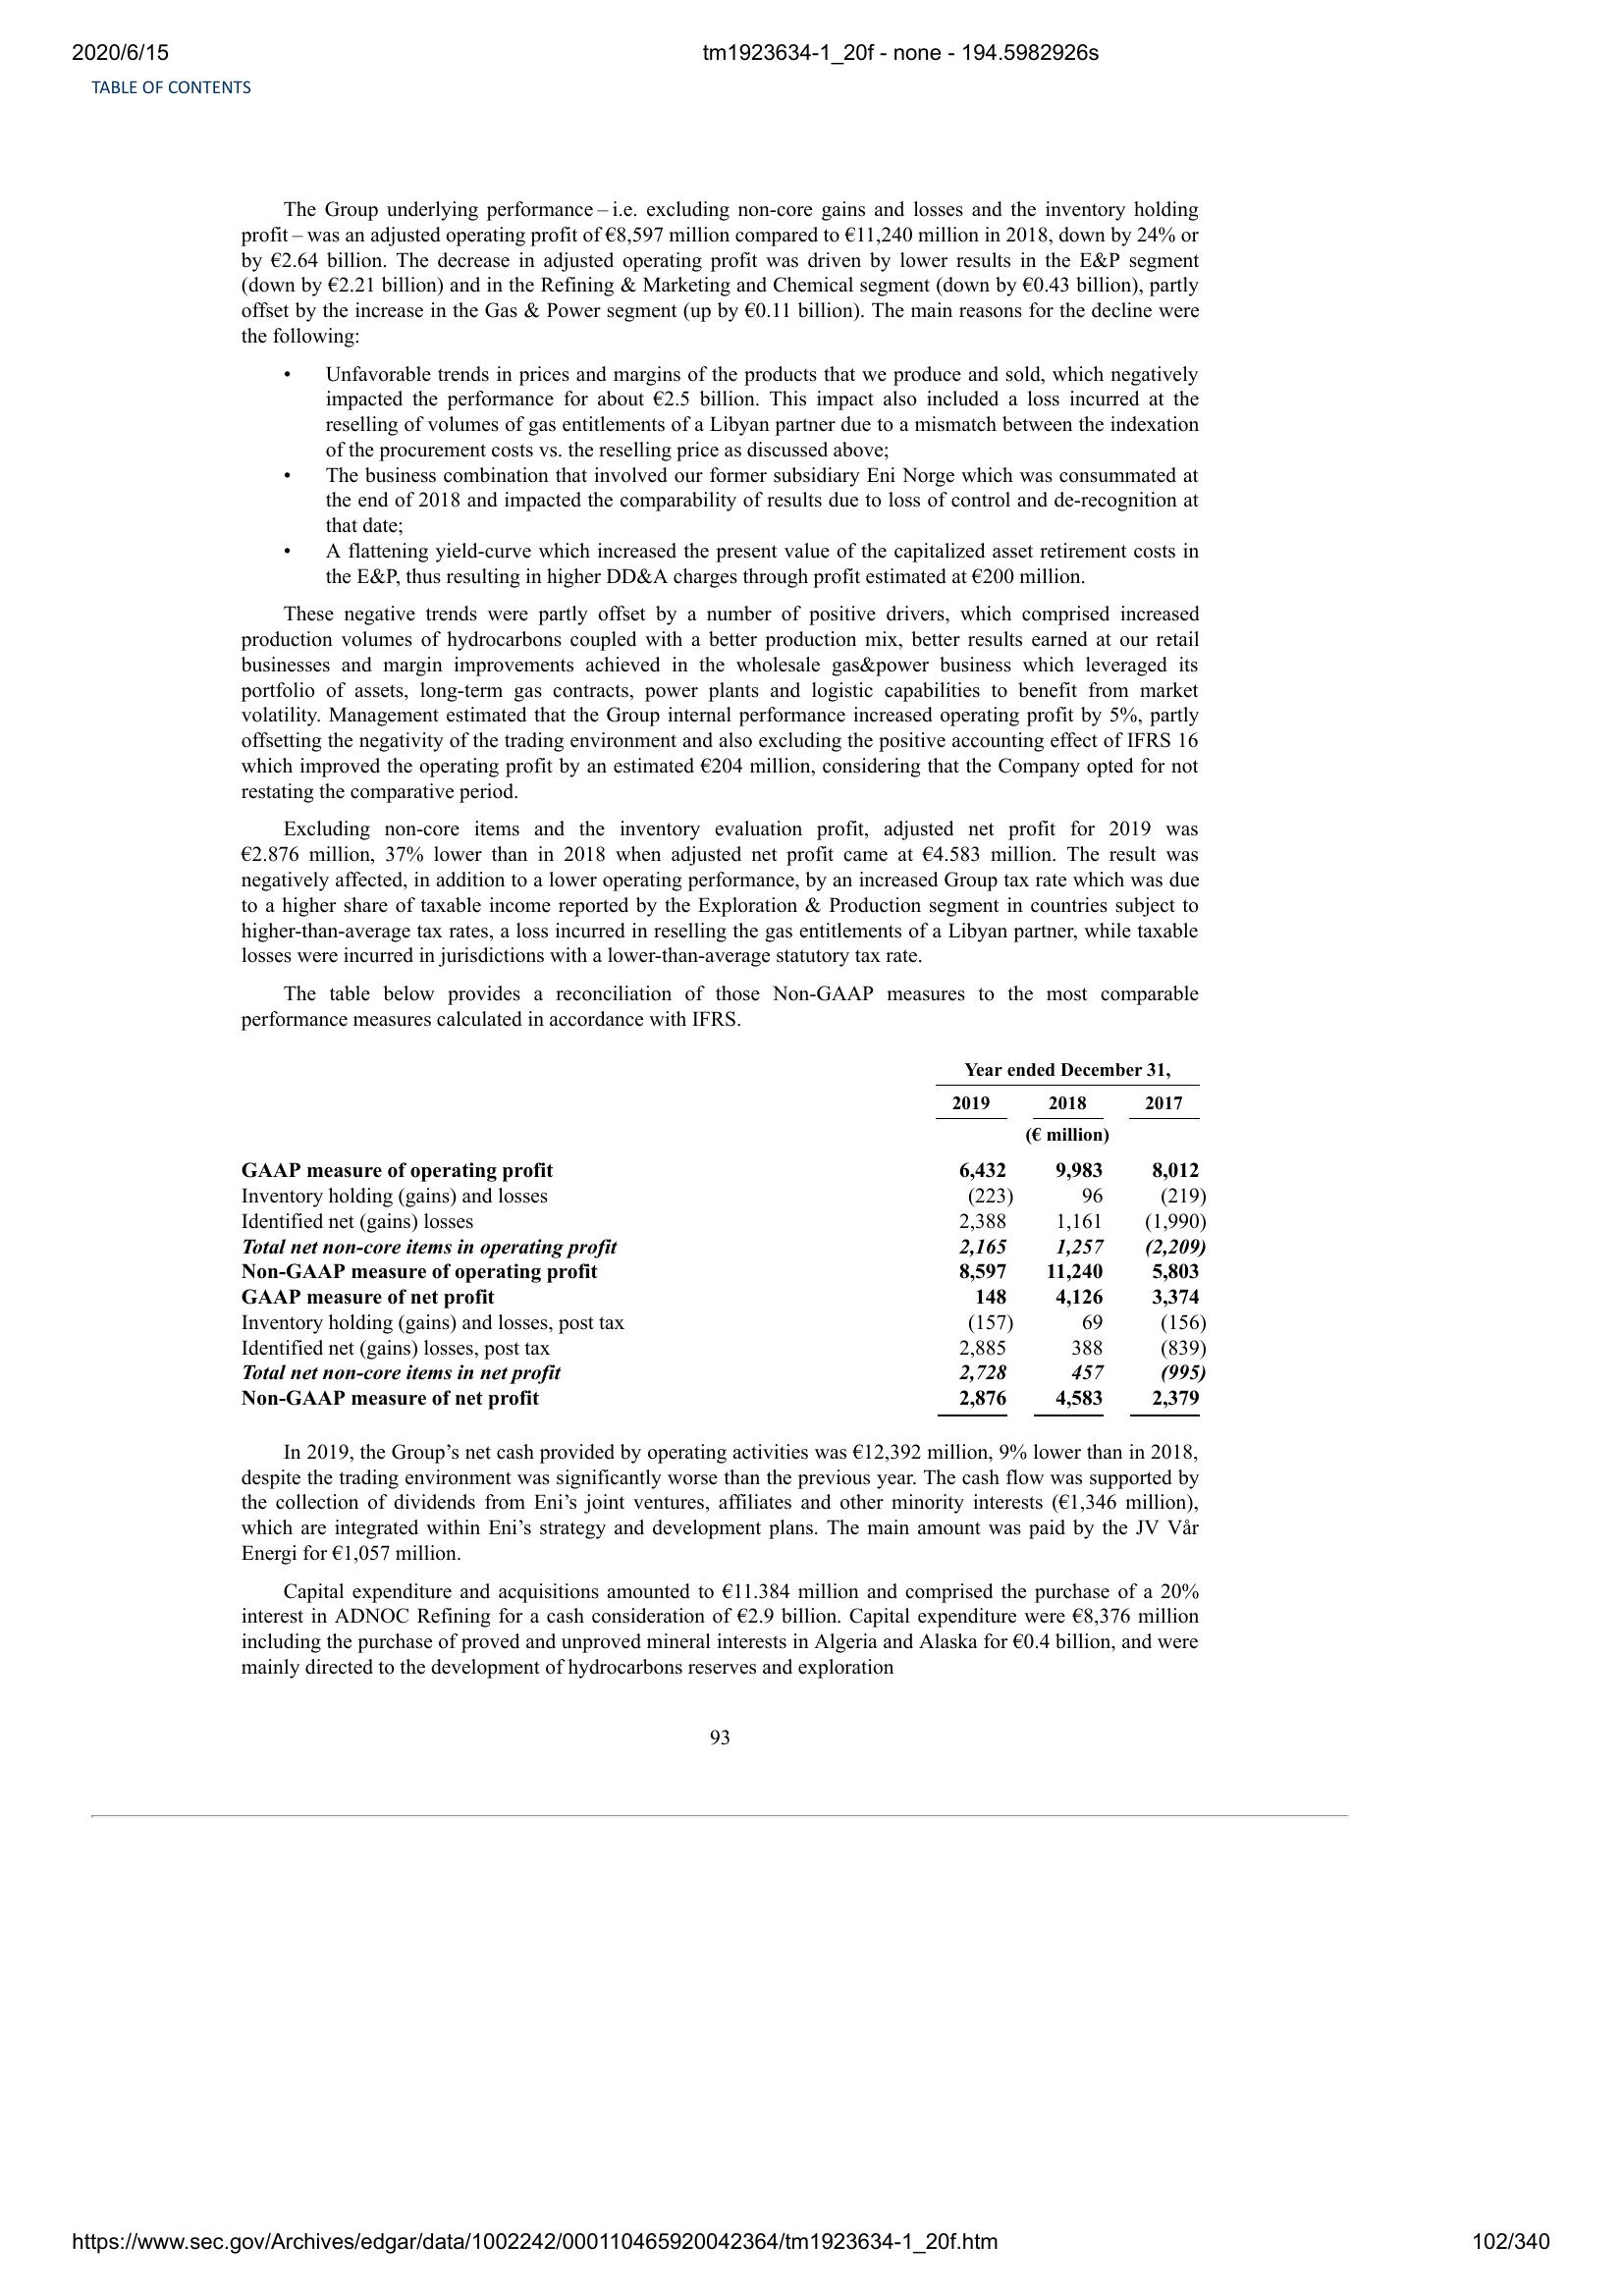table: (228, 1057, 1214, 1425)
